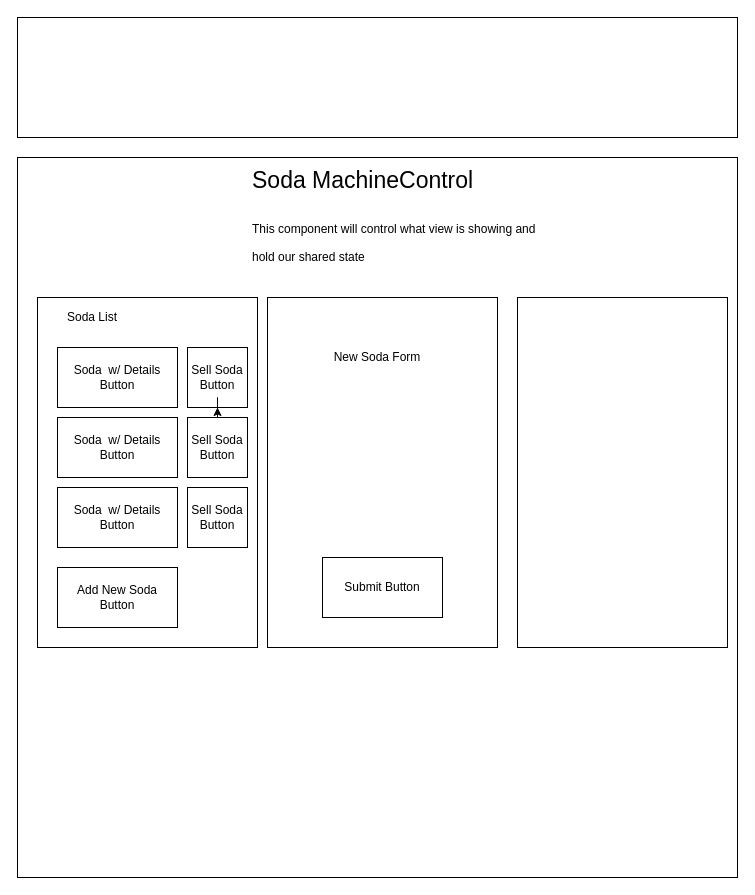
Image size: 755x895. Some labels were removed from this diagram. Each missing label, with the centre of its shape:
"Header" belongs at (x=377, y=77).
"Soda Details" belongs at (x=622, y=472).
